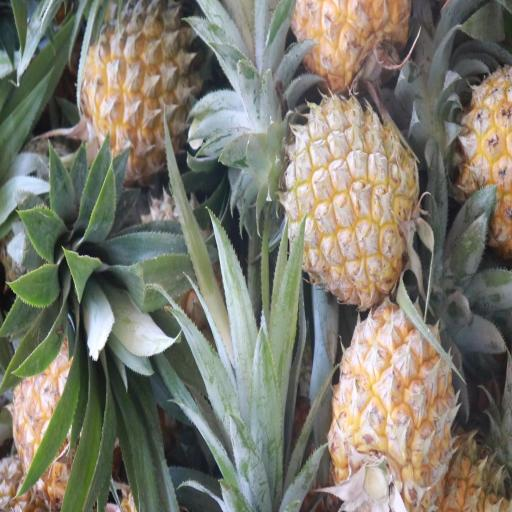------------------------------: (74, 3, 191, 169)
Pineapple - v8 v1: (282, 92, 414, 299), (332, 299, 456, 512), (428, 47, 512, 247)
